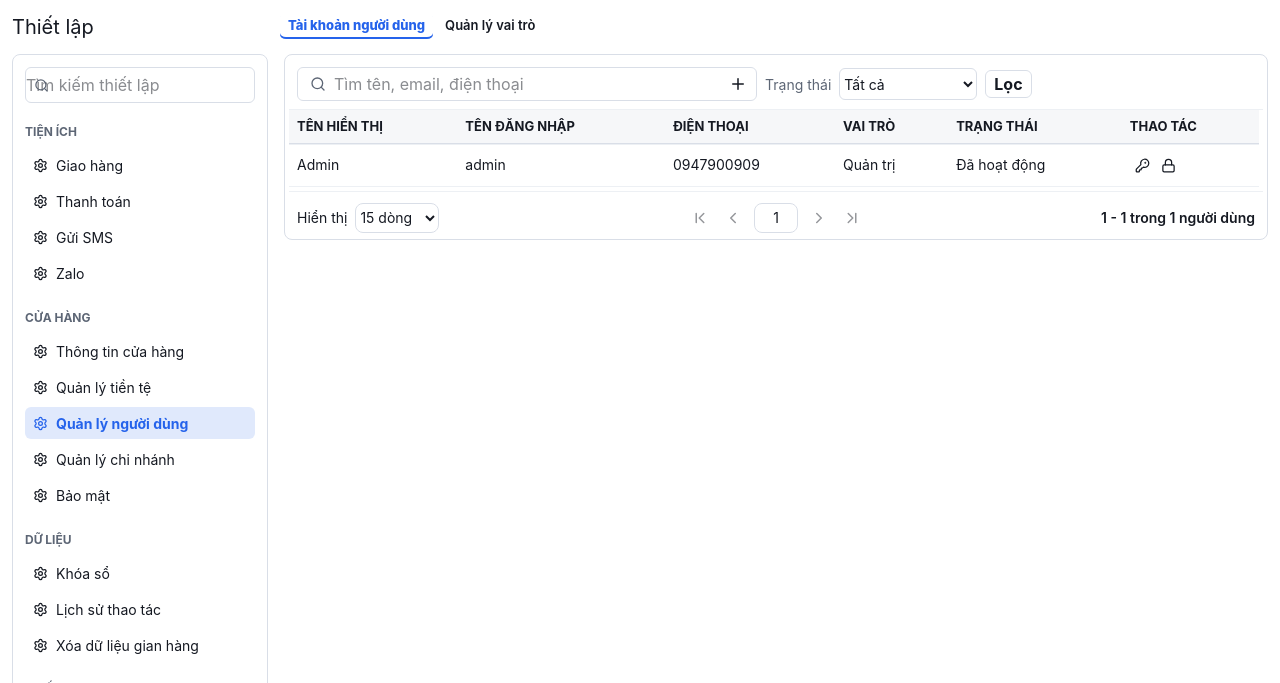
Scenario: loads user and permission administration data from the API service
Expected: the text "Đang tải dữ liệu quản trị..." is shown, [284,54,1268,240]
Expected: the tab "Tài khoản người dùng" is shown, [280,13,433,41]
Click the tab "Quản lý vai trò" at (490, 27), box [437,13,543,41]
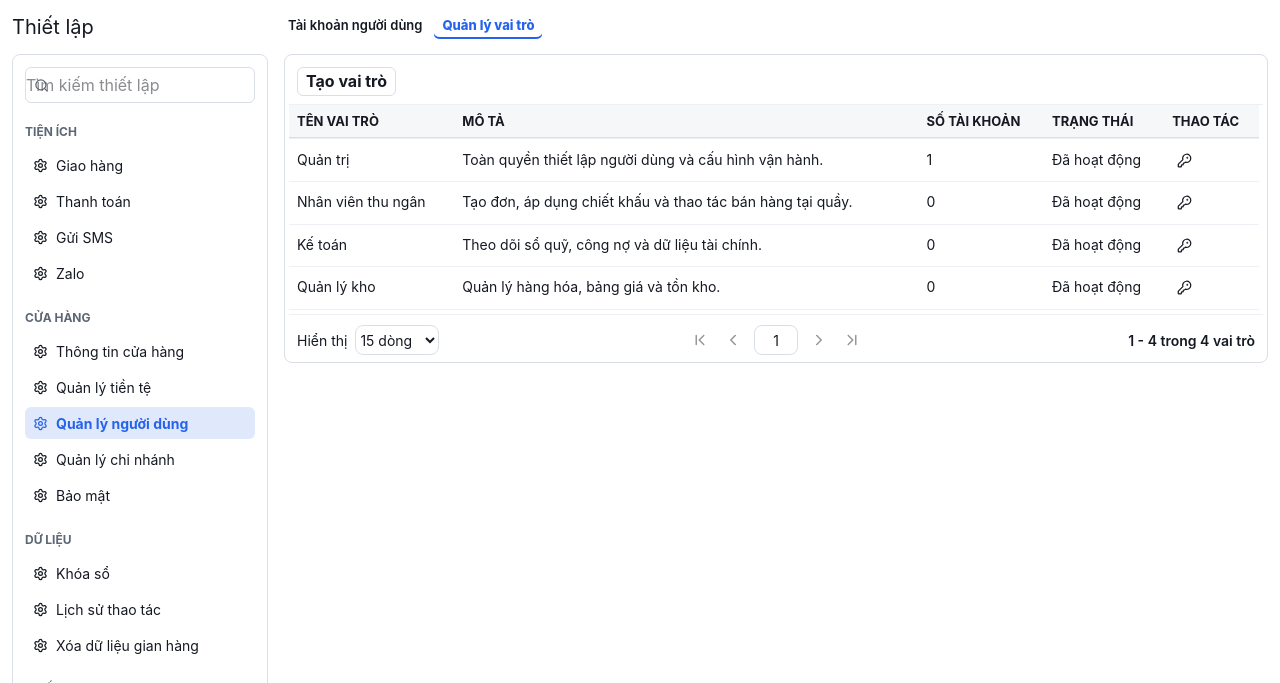
Expected: the column heading "Tên vai trò" is shown, [289,105,454,139]
Expected: the column heading "Mô tả" is shown, [454,105,919,139]
Expected: the column heading "Số tài khoản" is shown, [919,105,1044,139]
Click the button named "Mở quyền vai trò Quản trị" at (1185, 160), box [1172,147,1198,173]
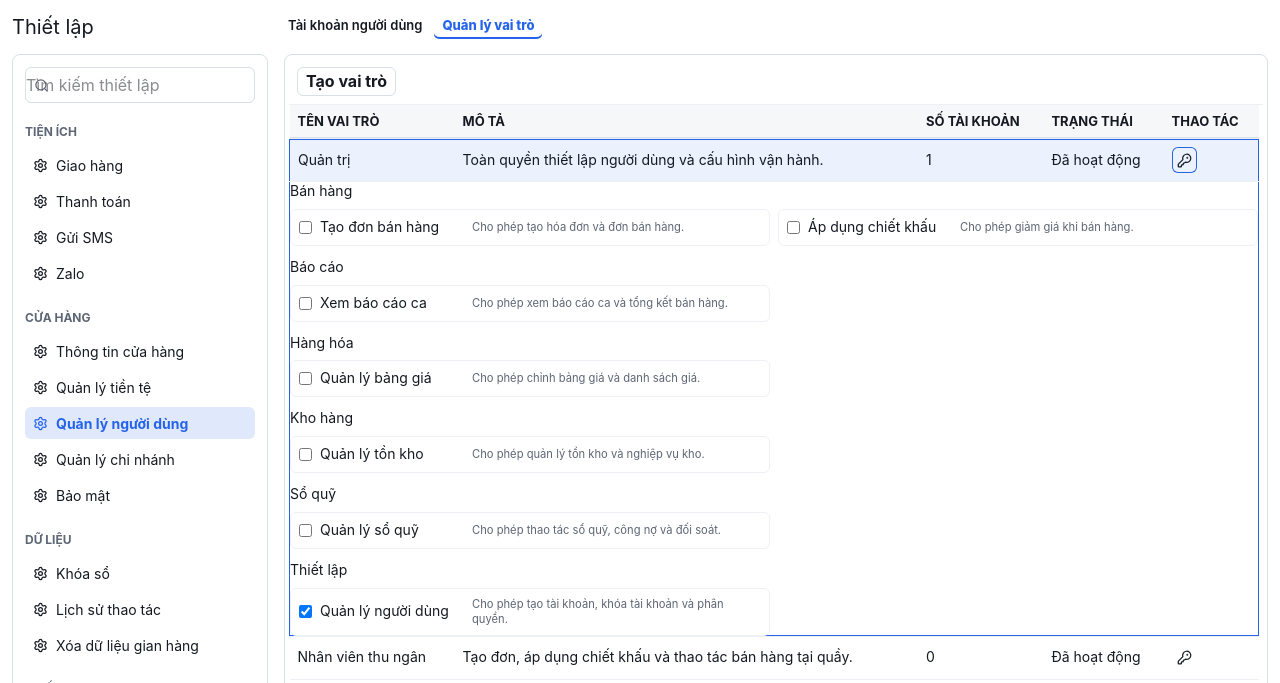
Expected: the heading "Thiết lập" below "Quản lý sổ quỹ" is shown, [290,561,347,578]
Expected: the checkbox labelled "Quản lý người dùng" is checked, [299,605,312,618]
